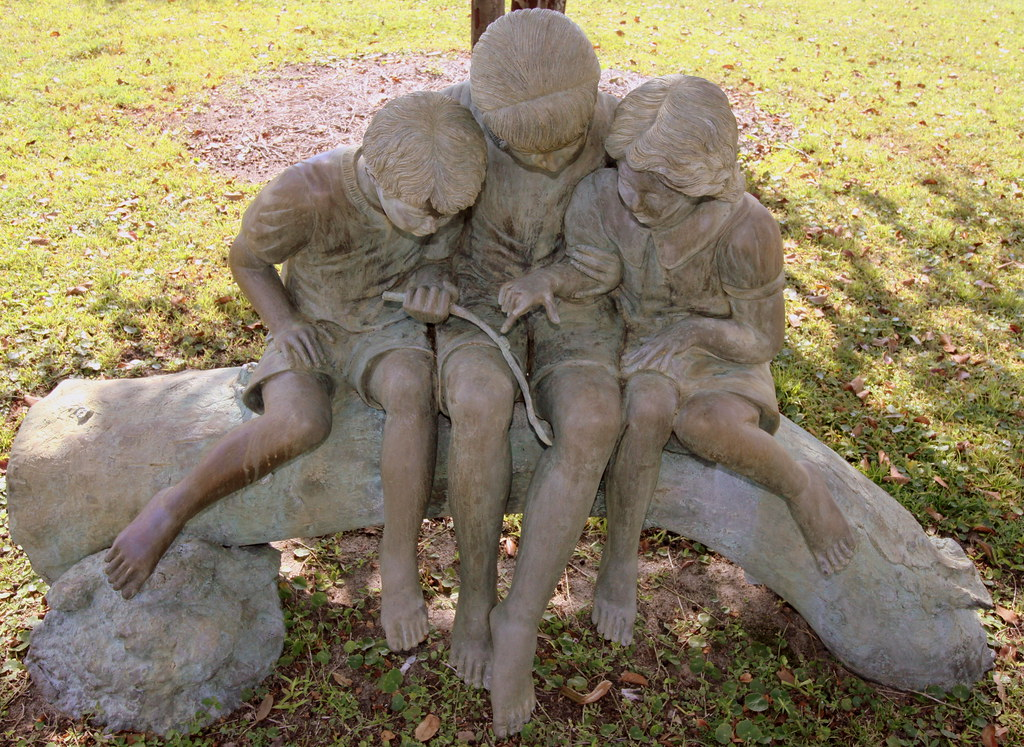person-like: (99, 84, 495, 657), (497, 66, 860, 652), (434, 4, 628, 743)
